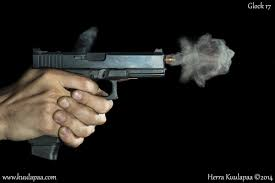gun: (25, 42, 168, 164)
